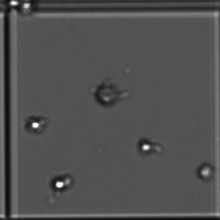Dead Cell: (91, 80, 121, 107)
Living Cell: (23, 110, 49, 136), (131, 137, 160, 160), (47, 177, 70, 198), (195, 157, 212, 184), (11, 1, 35, 20)
